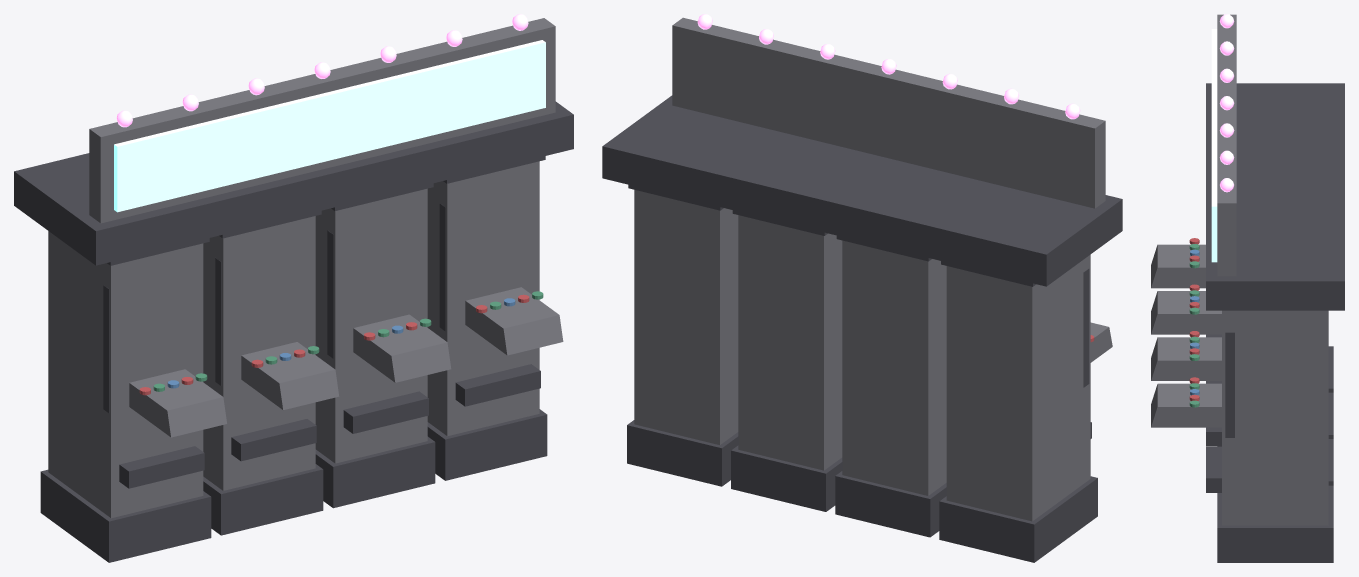
The model's file is casino-floor-and-back-rooms-slot-bank-3d818532__27018.glb.
3 renders of one model, left to right at view 1: azimuth 30°, elevation 25°; view 2: azimuth 150°, elevation 25°; view 3: azimuth 270°, elevation 25°, orthographic. The views are drawn at different scales.
Visible parts, largest first — view 1: slot-bank; view 2: slot-bank; view 3: slot-bank.
Part boxes in pixels (box(x1,y1,x2,y2)): slot-bank: box(14, 14, 573, 562); slot-bank: box(602, 14, 1122, 562); slot-bank: box(1151, 14, 1344, 562).
Size of the model in its own units: 2.9 by 2.56 by 1.2.
